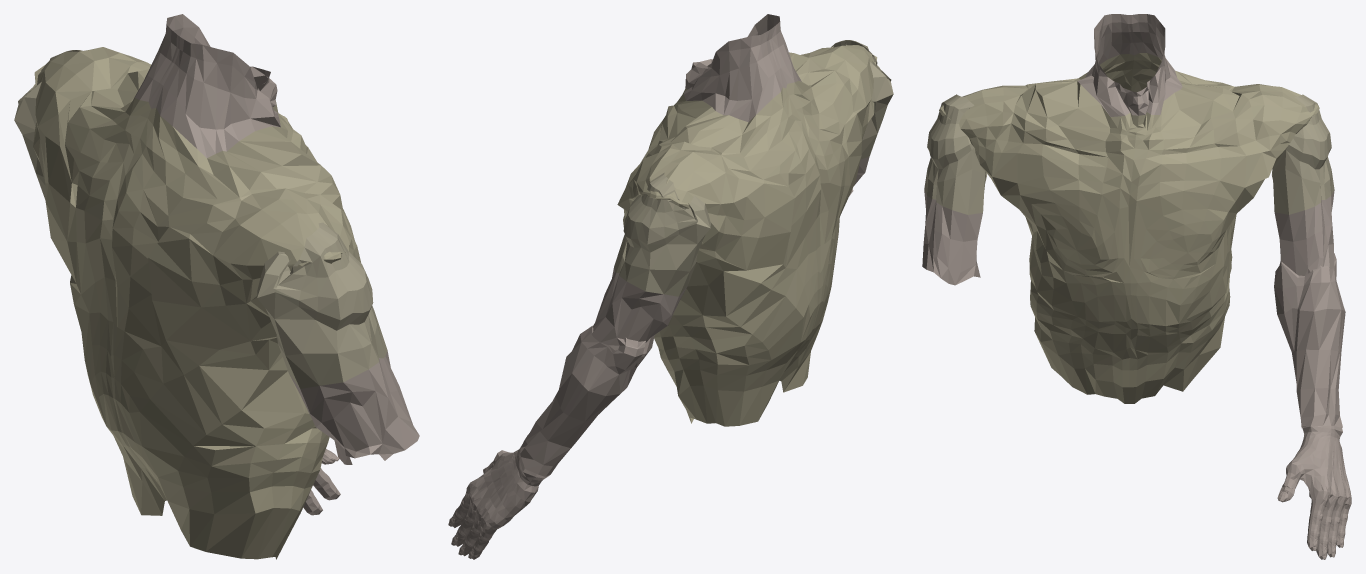
Rendered from torso.dae.
The picture shows the model from 3 angles, left to right: view 1: azimuth 30°, elevation 25°; view 2: azimuth 150°, elevation 25°; view 3: azimuth 270°, elevation 25°; orthographic projection. The views are drawn at different scales.
Parts seen in each view (by area): view 1: Chest, LoArm_R, LoArm_L, Hand_L; view 2: Chest, LoArm_L, UpArm_L, Hand_L, LoArm_R; view 3: Chest, LoArm_R, UpArm_L, LoArm_L, Hand_L.
Part boxes in pixels (x1,y1,x2,y2): Chest: (33, 14, 360, 559); LoArm_R: (257, 222, 419, 464); LoArm_L: (14, 50, 82, 200); Hand_L: (300, 448, 340, 515); Chest: (617, 14, 877, 426); LoArm_L: (591, 172, 710, 353); UpArm_L: (520, 325, 650, 476); Hand_L: (448, 444, 550, 559); LoArm_R: (831, 40, 893, 196); Chest: (939, 14, 1319, 403); LoArm_R: (922, 94, 986, 285); UpArm_L: (1274, 253, 1345, 427); LoArm_L: (1272, 94, 1334, 275); Hand_L: (1277, 425, 1351, 559).
Size of the model in its own units: 0.4513 by 0.6605 by 0.7732.
